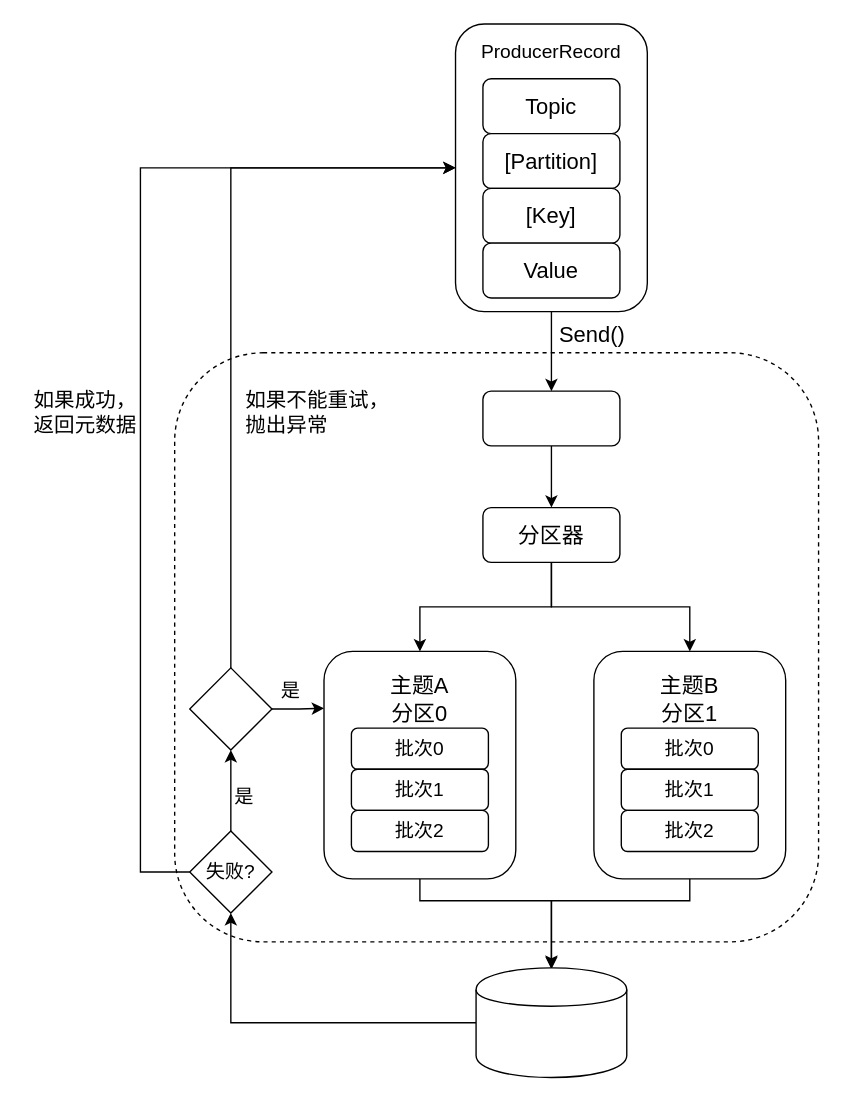
This 843x1101 diagram has some shape labels left out. The centre of each missing label's shape, as x and y in pixels:
Kafka Broker: (x=551, y=1022)
序列化器: (x=551, y=418)
重试?: (x=230, y=708)
